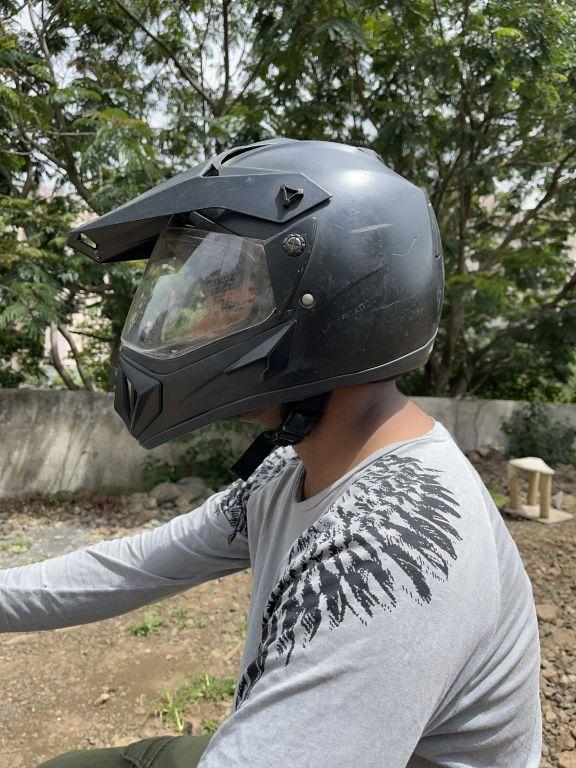helmet: (62, 117, 457, 446)
